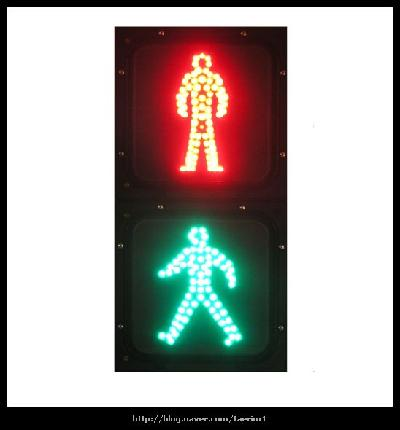traffic_light: (115, 26, 290, 372)
